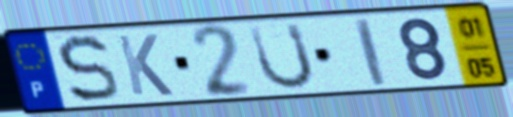2: (190, 19, 255, 104)
8: (396, 15, 451, 83)
I: (351, 15, 391, 89)
K: (114, 32, 177, 98)
S: (54, 32, 123, 105)
U: (246, 20, 318, 93)
